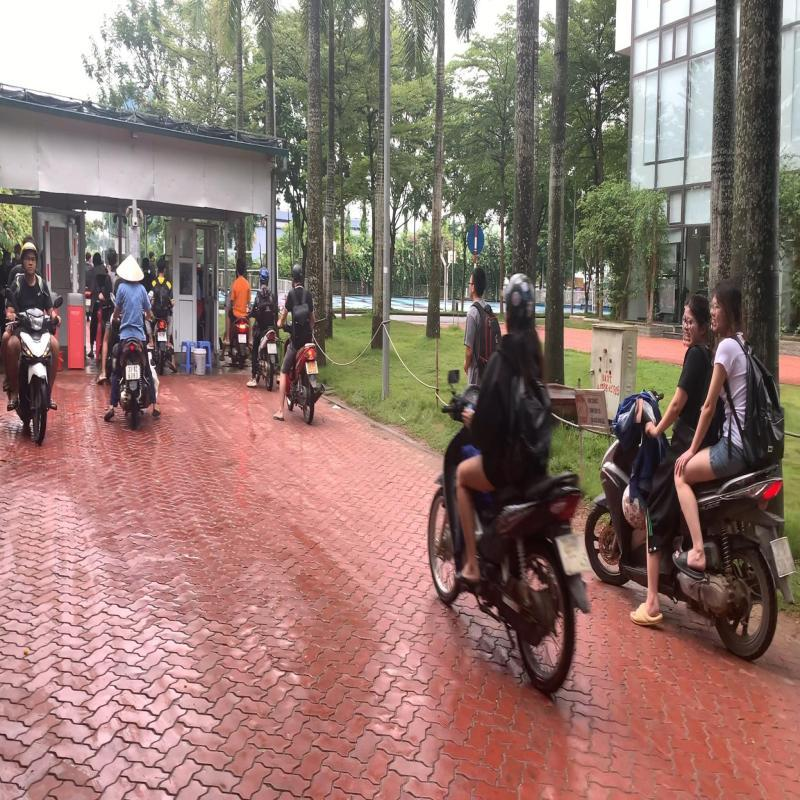nohelmet: (708, 278, 742, 336), (681, 292, 710, 347)
